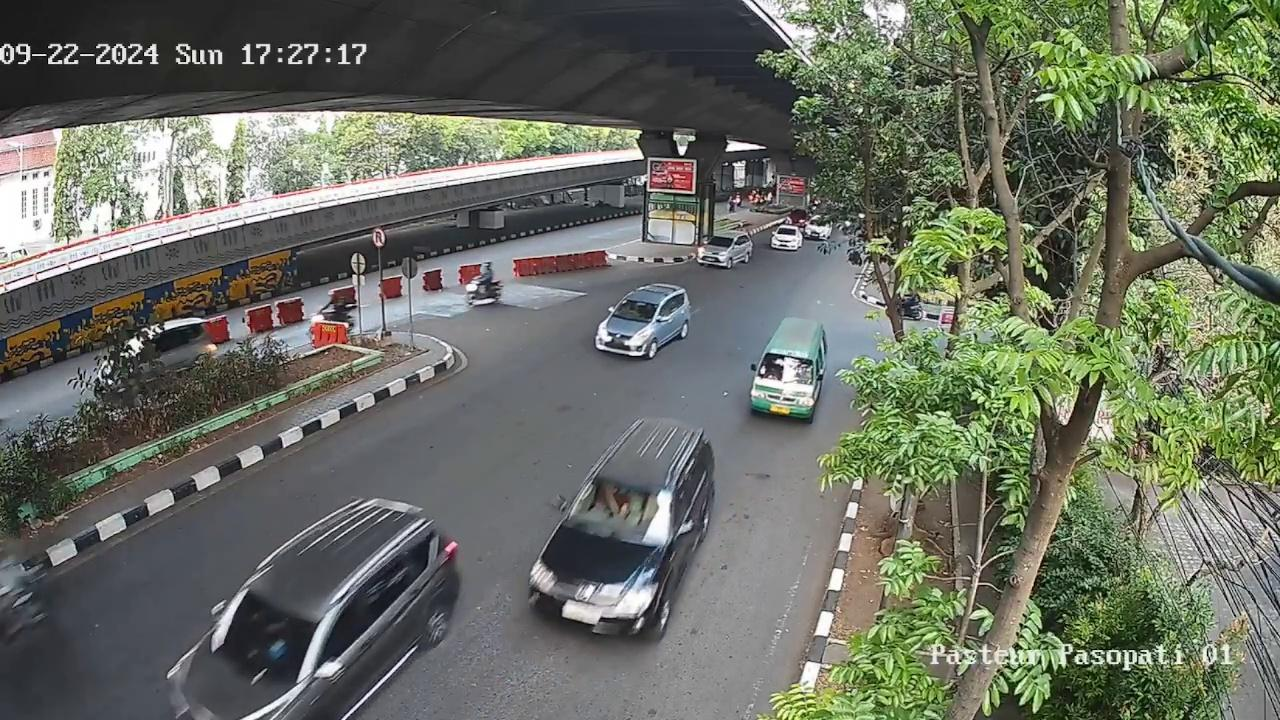pakai: (595, 487, 626, 516)
windshield: (215, 592, 325, 675), (573, 480, 682, 544), (753, 353, 819, 389), (610, 298, 657, 321)
